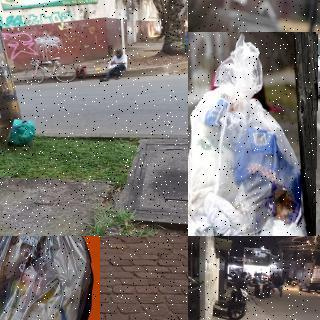Garbage: (188, 31, 317, 236), (0, 236, 100, 320), (0, 118, 37, 147)
